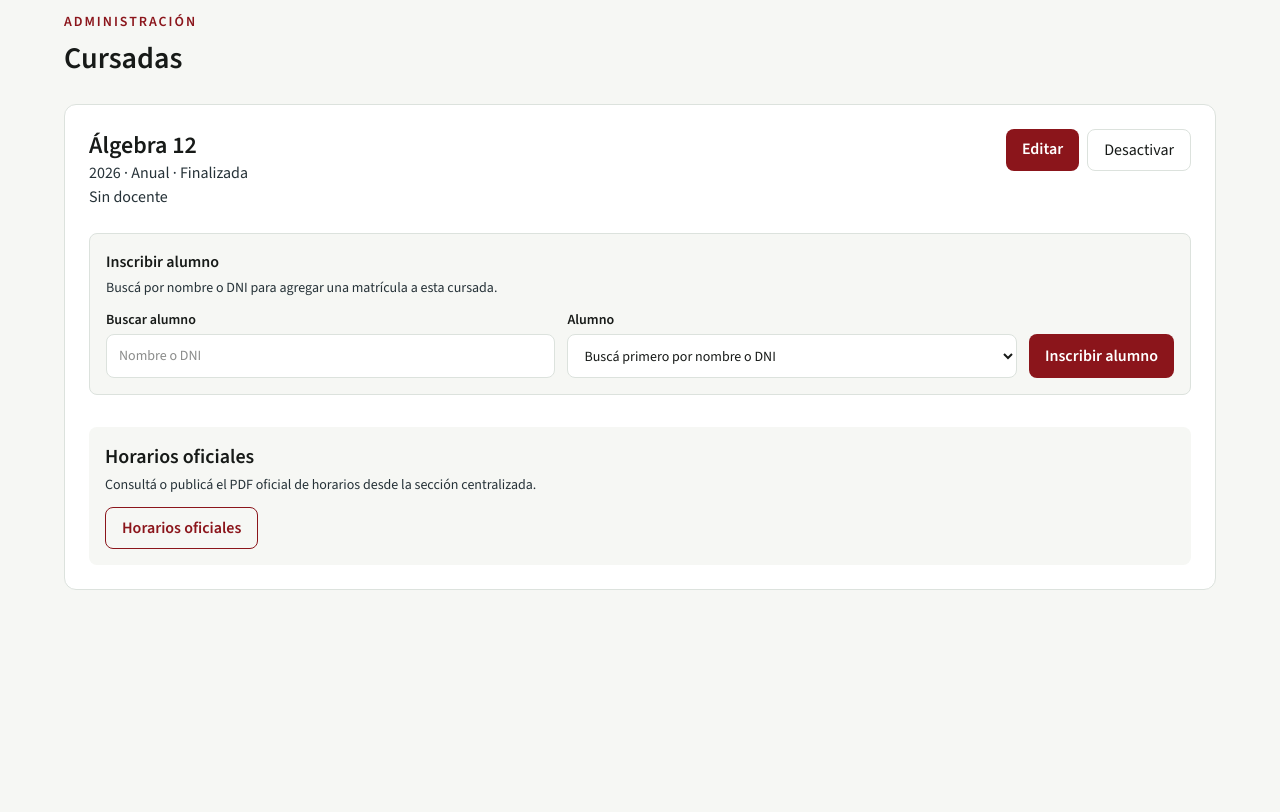
AdminCoursesView › enrolls a named student in a finalized course through the historical enrollment endpoint
expect the text "2026 · Anual · Finalizada" is shown: met, box [89,161,248,185]
Type "Lucía" into the search field labelled "Buscar alumno" at (331, 356), box [106,334,556,378]
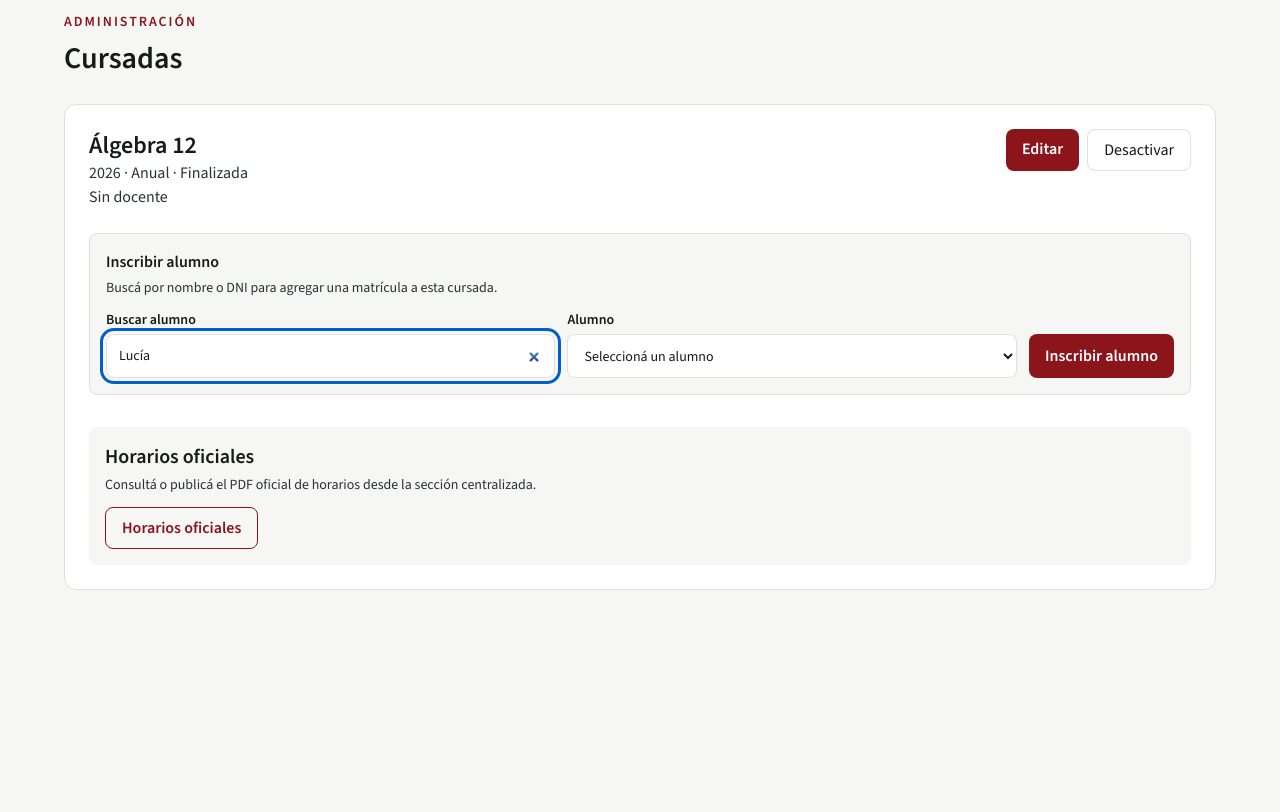
Select "Lucía Fernández · DNI 42666888" in the dropdown labelled "Alumno" at (792, 356), box [568,334,1017,378]
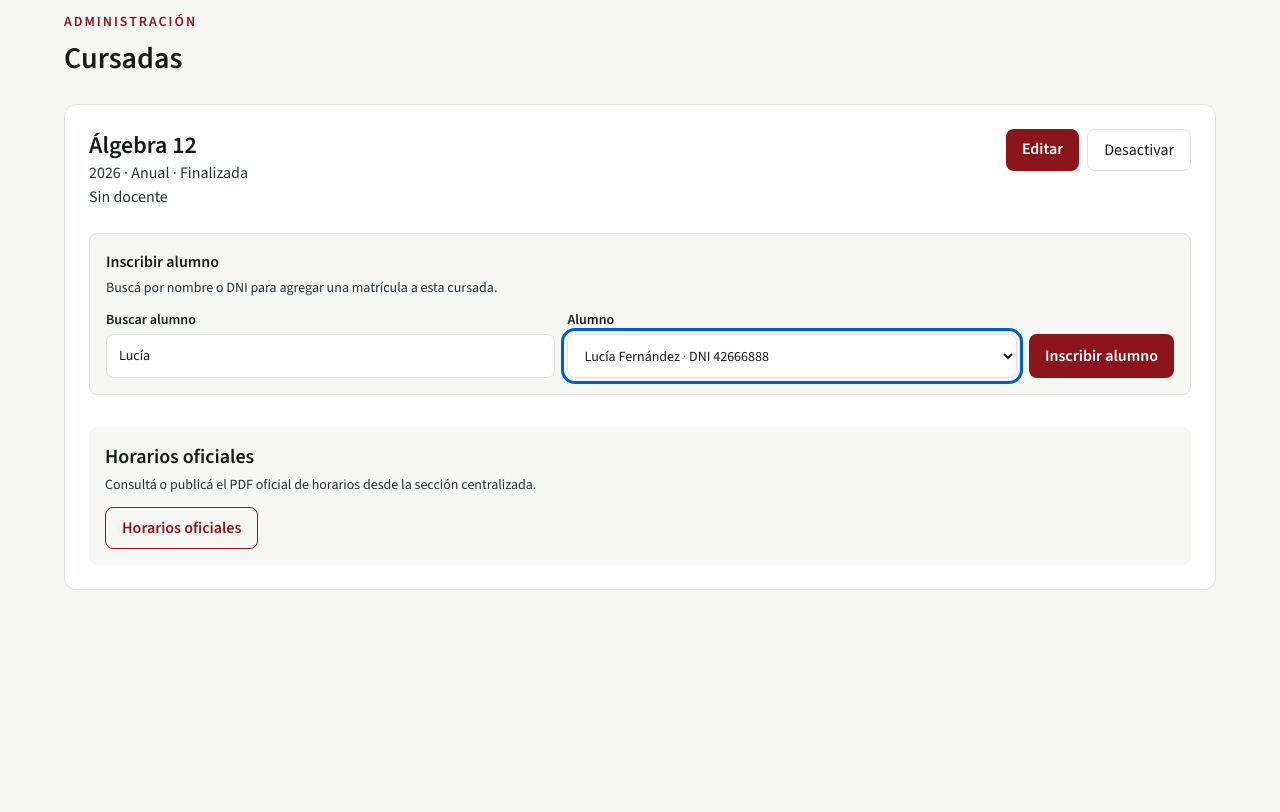
Click the button "Inscribir alumno" at (1102, 356), box [1029,334,1174,378]
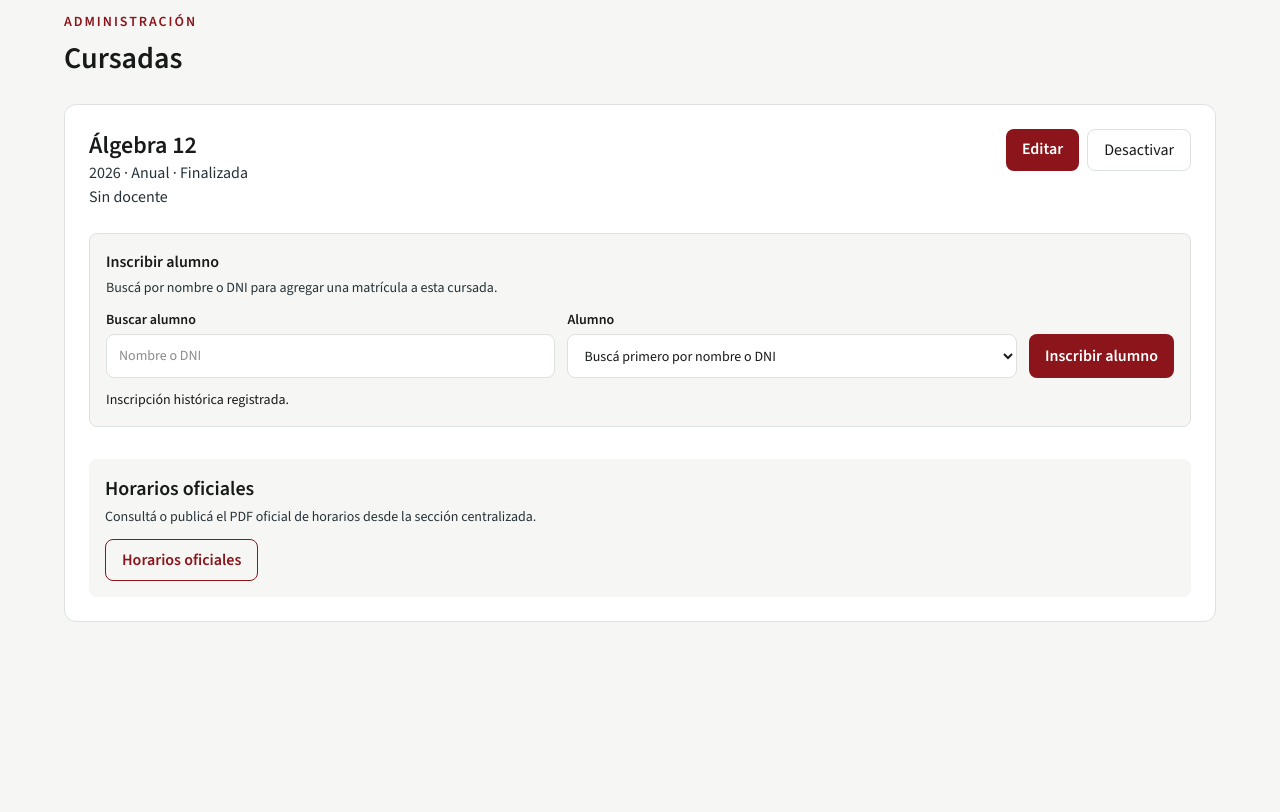
expect the message reads "Inscripción histórica registrada.": met, box [106,390,289,409]
